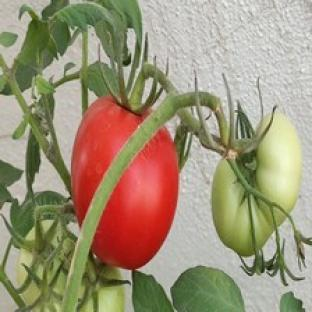Tomato: (92, 129, 178, 268), (212, 161, 274, 256), (33, 226, 73, 311)
